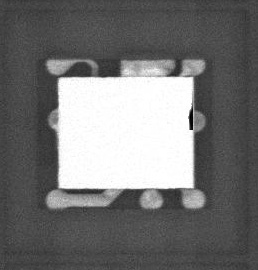DIE_BROKEN: (186, 105, 195, 132)
